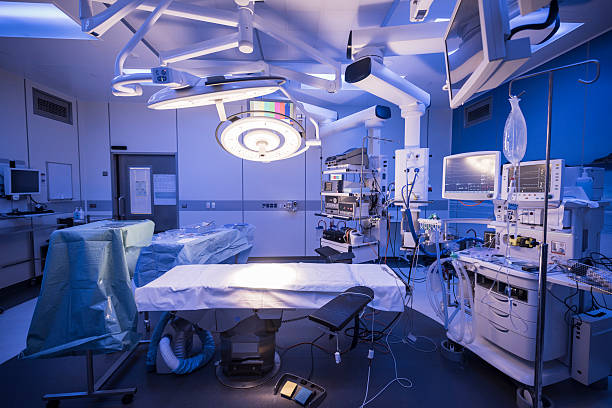bedside_monitor: (442, 150, 501, 201), (500, 159, 564, 202)
breathing_tube: (407, 225, 467, 350)
computer: (8, 168, 46, 200)
door_handle: (119, 196, 126, 217)
handle: (491, 307, 510, 319)
iv_pole: (504, 58, 601, 408)
keyboard: (6, 211, 56, 216)
medical_drawer: (464, 280, 562, 357)
operating_bed: (133, 263, 407, 390)
surgical_instrument: (464, 252, 586, 274), (141, 220, 254, 243), (50, 220, 153, 241)
surgical_light: (145, 72, 286, 111), (214, 108, 308, 164)
